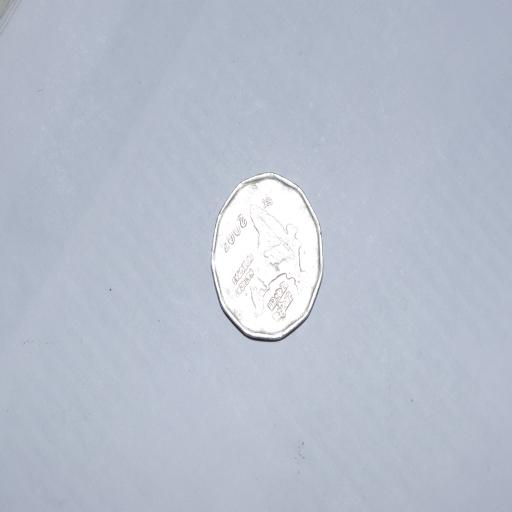rupee2: (204, 169, 325, 346)
